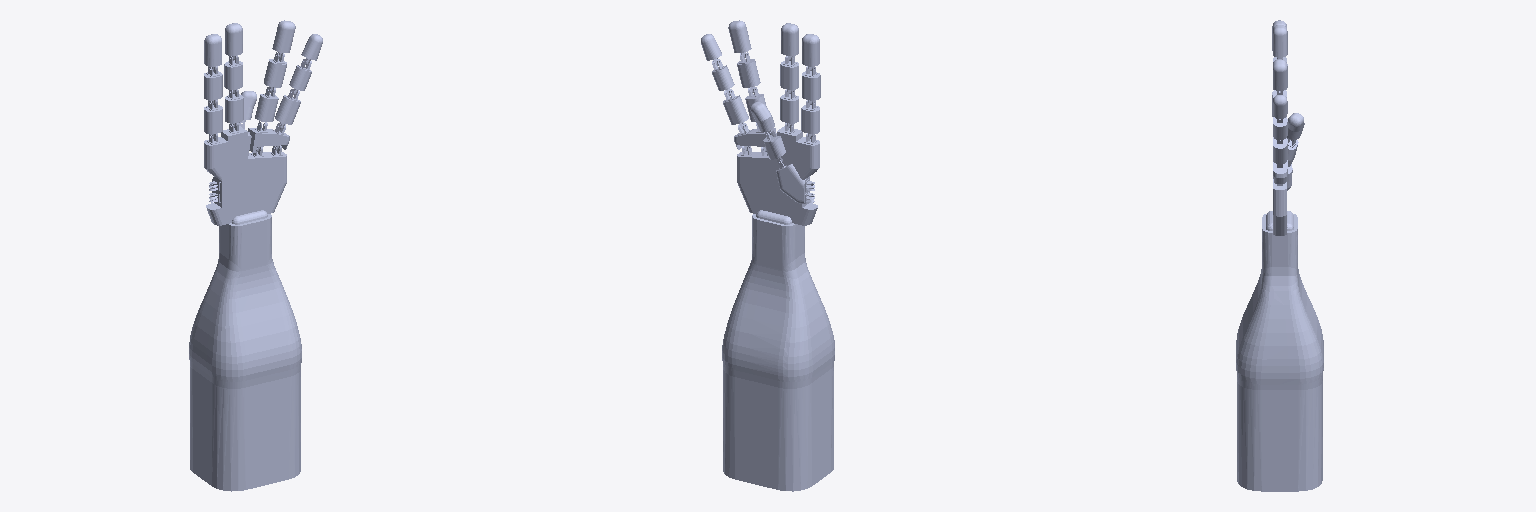
The robot description file, URDF, robot "simple_hand_3":
<?xml version="1.0" encoding="utf-8"?>
<!-- This URDF was automatically created by SolidWorks to URDF Exporter! Originally created by [author] ([email redacted]) 
     Commit Version: 1.6.0-1-g15f4949  Build Version: 1.6.7594.29634
     For more information, please see http://wiki.ros.org/sw_urdf_exporter -->
<robot
  name="simple_hand_3">
  <link
    name="base_link">
    <inertial>
      <origin
        xyz="-0.00188643436581484 7.91792044075349E-07 -0.0101107102609225"
        rpy="0 0 0" />
      <mass
        value="0.0547254839327602" />
      <inertia
        ixx="3.01578866609305E-05"
        ixy="2.75922512250291E-11"
        ixz="5.77313895814659E-06"
        iyy="4.6585768516949E-05"
        iyz="-3.08656421612784E-11"
        izz="1.82716186853849E-05" />
    </inertial>
    <visual>
      <origin
        xyz="0 0 0"
        rpy="0 0 0" />
      <geometry>
        <mesh
          filename="package://simple_hand_3/meshes/base_link.STL" />
      </geometry>
      <material
        name="">
        <color
          rgba="0.792156862745098 0.819607843137255 0.933333333333333 1" />
      </material>
    </visual>
    <collision>
      <origin
        xyz="0 0 0"
        rpy="0 0 0" />
      <geometry>
        <mesh
          filename="package://simple_hand_3/meshes/base_link.STL" />
      </geometry>
    </collision>
  </link>
  <link
    name="thumb_1">
    <inertial>
      <origin
        xyz="0.0048085282615066 0.0155683292090754 -9.38862231650911E-05"
        rpy="0 0 0" />
      <mass
        value="0.00714658380829061" />
      <inertia
        ixx="3.26626039983406E-07"
        ixy="9.21851511766135E-08"
        ixz="7.28401970577256E-11"
        iyy="4.93450737768554E-07"
        iyz="1.16674127798342E-10"
        izz="6.67805464749945E-07" />
    </inertial>
    <visual>
      <origin
        xyz="0 0 0"
        rpy="0 0 0" />
      <geometry>
        <mesh
          filename="package://simple_hand_3/meshes/thumb_1.STL" />
      </geometry>
      <material
        name="">
        <color
          rgba="0.792156862745098 0.819607843137255 0.933333333333333 1" />
      </material>
    </visual>
    <collision>
      <origin
        xyz="0 0 0"
        rpy="0 0 0" />
      <geometry>
        <mesh
          filename="package://simple_hand_3/meshes/thumb_1.STL" />
      </geometry>
    </collision>
  </link>
  <joint
    name="thumb_palm"
    type="continuous">
    <origin
      xyz="-0.031 -0.0001 0"
      rpy="1.3963 1.5708 0" />
    <parent
      link="base_link" />
    <child
      link="thumb_1" />
    <axis
      xyz="1 0 0" />
  </joint>
  <link
    name="thumb_2">
    <inertial>
      <origin
        xyz="-0.0580525842144156 0.0245170365772038 0.00600212157284599"
        rpy="0 0 0" />
      <mass
        value="0.00309410697808253" />
      <inertia
        ixx="9.86716393307872E-08"
        ixy="-6.58381417150372E-09"
        ixz="4.7694185801008E-11"
        iyy="8.17761446626134E-08"
        iyz="1.44734613015873E-11"
        izz="1.17680540570393E-07" />
    </inertial>
    <visual>
      <origin
        xyz="0 0 0"
        rpy="0 0 0" />
      <geometry>
        <mesh
          filename="package://simple_hand_3/meshes/thumb_2.STL" />
      </geometry>
      <material
        name="">
        <color
          rgba="0.792156862745098 0.819607843137255 0.933333333333333 1" />
      </material>
    </visual>
    <collision>
      <origin
        xyz="0 0 0"
        rpy="0 0 0" />
      <geometry>
        <mesh
          filename="package://simple_hand_3/meshes/thumb_2.STL" />
      </geometry>
    </collision>
  </link>
  <joint
    name="thumb_12"
    type="fixed">
    <origin
      xyz="0.00074168 -0.025588 -0.0138"
      rpy="-2.8356 0.43178 -1.5075" />
    <parent
      link="thumb_1" />
    <child
      link="thumb_2" />
    <axis
      xyz="0 0 0" />
  </joint>
  <link
    name="thumb_3">
    <inertial>
      <origin
        xyz="-0.068356987493422 0.0647531465127782 0.0059944001340212"
        rpy="0 0 0" />
      <mass
        value="0.00324861748801509" />
      <inertia
        ixx="1.31829885963988E-07"
        ixy="2.37227938008644E-08"
        ixz="1.16060719329104E-12"
        iyy="8.56030195353304E-08"
        iyz="9.31995554705883E-13"
        izz="1.54481533062547E-07" />
    </inertial>
    <visual>
      <origin
        xyz="0 0 0"
        rpy="0 0 0" />
      <geometry>
        <mesh
          filename="package://simple_hand_3/meshes/thumb_3.STL" />
      </geometry>
      <material
        name="">
        <color
          rgba="0.792156862745098 0.819607843137255 0.933333333333333 1" />
      </material>
    </visual>
    <collision>
      <origin
        xyz="0 0 0"
        rpy="0 0 0" />
      <geometry>
        <mesh
          filename="package://simple_hand_3/meshes/thumb_3.STL" />
      </geometry>
    </collision>
  </link>
  <joint
    name="thumb_23"
    type="continuous">
    <origin
      xyz="0.010488 -0.0027249 0.0098784"
      rpy="0.031976 -0.17161 0.12773" />
    <parent
      link="thumb_2" />
    <child
      link="thumb_3" />
    <axis
      xyz="0 0 0" />
  </joint>
  <link
    name="index_1">
    <inertial>
      <origin
        xyz="0.000100909995287488 0.0101314105773068 -0.00308812397054953"
        rpy="0 0 0" />
      <mass
        value="0.00331457639559618" />
      <inertia
        ixx="1.2323138903352E-07"
        ixy="-6.26012716365044E-22"
        ixz="5.10066028953523E-22"
        iyy="8.32166997991831E-08"
        iyz="-2.40400014712199E-20"
        izz="1.40564829901929E-07" />
    </inertial>
    <visual>
      <origin
        xyz="0 0 0"
        rpy="0 0 0" />
      <geometry>
        <mesh
          filename="package://simple_hand_3/meshes/index_1.STL" />
      </geometry>
      <material
        name="">
        <color
          rgba="0.792156862745098 0.819607843137255 0.933333333333333 1" />
      </material>
    </visual>
    <collision>
      <origin
        xyz="0 0 0"
        rpy="0 0 0" />
      <geometry>
        <mesh
          filename="package://simple_hand_3/meshes/index_1.STL" />
      </geometry>
    </collision>
  </link>
  <joint
    name="index_palm"
    type="continuous">
    <origin
      xyz="-0.0299 0.0029 0.043"
      rpy="1.5708 0 3.1416" />
    <parent
      link="base_link" />
    <child
      link="index_1" />
    <axis
      xyz="0 0 0" />
  </joint>
  <link
    name="index_2">
    <inertial>
      <origin
        xyz="8.81239705526511E-05 0.0101314105773068 -0.00291187602944456"
        rpy="0 0 0" />
      <mass
        value="0.00331457639559618" />
      <inertia
        ixx="1.2323138903352E-07"
        ixy="-6.31511541580998E-22"
        ixz="5.08668394194715E-22"
        iyy="8.32166997991831E-08"
        iyz="-2.39865466102502E-20"
        izz="1.40564829901929E-07" />
    </inertial>
    <visual>
      <origin
        xyz="0 0 0"
        rpy="0 0 0" />
      <geometry>
        <mesh
          filename="package://simple_hand_3/meshes/index_2.STL" />
      </geometry>
      <material
        name="">
        <color
          rgba="0.792156862745098 0.819607843137255 0.933333333333333 1" />
      </material>
    </visual>
    <collision>
      <origin
        xyz="0 0 0"
        rpy="0 0 0" />
      <geometry>
        <mesh
          filename="package://simple_hand_3/meshes/index_2.STL" />
      </geometry>
    </collision>
  </link>
  <joint
    name="index_12"
    type="continuous">
    <origin
      xyz="0.0002 0.03 0"
      rpy="0 0 0" />
    <parent
      link="index_1" />
    <child
      link="index_2" />
    <axis
      xyz="0 0 0" />
  </joint>
  <link
    name="index_3">
    <inertial>
      <origin
        xyz="-9.48443246826212E-05 0.0116226051015443 -0.00309484432468262"
        rpy="0 0 0" />
      <mass
        value="0.00352502395351663" />
      <inertia
        ixx="1.85717997302154E-07"
        ixy="-2.15781770705621E-23"
        ixz="-3.31417911790443E-24"
        iyy="8.01006878176001E-08"
        iyz="-4.08880248846548E-23"
        izz="1.97300854531169E-07" />
    </inertial>
    <visual>
      <origin
        xyz="0 0 0"
        rpy="0 0 0" />
      <geometry>
        <mesh
          filename="package://simple_hand_3/meshes/index_3.STL" />
      </geometry>
      <material
        name="">
        <color
          rgba="0.792156862745098 0.819607843137255 0.933333333333333 1" />
      </material>
    </visual>
    <collision>
      <origin
        xyz="0 0 0"
        rpy="0 0 0" />
      <geometry>
        <mesh
          filename="package://simple_hand_3/meshes/index_3.STL" />
      </geometry>
    </collision>
  </link>
  <joint
    name="index_23"
    type="fixed">
    <origin
      xyz="0 0.03 0"
      rpy="0 0 0" />
    <parent
      link="index_2" />
    <child
      link="index_3" />
    <axis
      xyz="0 0 0" />
  </joint>
  <link
    name="middle_1">
    <inertial>
      <origin
        xyz="-0.0075009099952875 0.0146314105773068 8.81239705497929E-05"
        rpy="0 0 0" />
      <mass
        value="0.00331457639559618" />
      <inertia
        ixx="1.2323138903352E-07"
        ixy="6.33478104037402E-22"
        ixz="5.09155288370479E-22"
        iyy="8.32166997991831E-08"
        iyz="2.39759641967047E-20"
        izz="1.40564829901929E-07" />
    </inertial>
    <visual>
      <origin
        xyz="0 0 0"
        rpy="0 0 0" />
      <geometry>
        <mesh
          filename="package://simple_hand_3/meshes/middle_1.STL" />
      </geometry>
      <material
        name="">
        <color
          rgba="0.792156862745098 0.819607843137255 0.933333333333333 1" />
      </material>
    </visual>
    <collision>
      <origin
        xyz="0 0 0"
        rpy="0 0 0" />
      <geometry>
        <mesh
          filename="package://simple_hand_3/meshes/middle_1.STL" />
      </geometry>
    </collision>
  </link>
  <joint
    name="middle_palm"
    type="continuous">
    <origin
      xyz="-0.003 0.0001 0.0435"
      rpy="1.5708 0 0" />
    <parent
      link="base_link" />
    <child
      link="middle_1" />
    <axis
      xyz="1 0 0" />
  </joint>
  <link
    name="middle_2">
    <inertial>
      <origin
        xyz="0.000100909995287481 0.0101314105773068 -0.00291187602944456"
        rpy="0 0 0" />
      <mass
        value="0.00331457639559618" />
      <inertia
        ixx="1.2323138903352E-07"
        ixy="-6.09886440477558E-22"
        ixz="5.09253540118803E-22"
        iyy="8.32166997991831E-08"
        iyz="-2.40189294374678E-20"
        izz="1.40564829901928E-07" />
    </inertial>
    <visual>
      <origin
        xyz="0 0 0"
        rpy="0 0 0" />
      <geometry>
        <mesh
          filename="package://simple_hand_3/meshes/middle_2.STL" />
      </geometry>
      <material
        name="">
        <color
          rgba="0.792156862745098 0.819607843137255 0.933333333333333 1" />
      </material>
    </visual>
    <collision>
      <origin
        xyz="0 0 0"
        rpy="0 0 0" />
      <geometry>
        <mesh
          filename="package://simple_hand_3/meshes/middle_2.STL" />
      </geometry>
    </collision>
  </link>
  <joint
    name="middle_12"
    type="continuous">
    <origin
      xyz="-0.0076 0.0345 -0.003"
      rpy="3.1416 0 -3.1416" />
    <parent
      link="middle_1" />
    <child
      link="middle_2" />
    <axis
      xyz="0 0 0" />
  </joint>
  <link
    name="middle_3">
    <inertial>
      <origin
        xyz="-9.48443246825952E-05 0.0116226051015443 -0.00290515567531735"
        rpy="0 0 0" />
      <mass
        value="0.00352502395351662" />
      <inertia
        ixx="1.85717997302153E-07"
        ixy="-5.23422890572457E-23"
        ixz="-1.76233170731714E-23"
        iyy="8.01006878176E-08"
        iyz="3.22424816276047E-23"
        izz="1.97300854531168E-07" />
    </inertial>
    <visual>
      <origin
        xyz="0 0 0"
        rpy="0 0 0" />
      <geometry>
        <mesh
          filename="package://simple_hand_3/meshes/middle_3.STL" />
      </geometry>
      <material
        name="">
        <color
          rgba="0.792156862745098 0.819607843137255 0.933333333333333 1" />
      </material>
    </visual>
    <collision>
      <origin
        xyz="0 0 0"
        rpy="0 0 0" />
      <geometry>
        <mesh
          filename="package://simple_hand_3/meshes/middle_3.STL" />
      </geometry>
    </collision>
  </link>
  <joint
    name="middle_23"
    type="fixed">
    <origin
      xyz="0.0002 0.03 0"
      rpy="0 0 0" />
    <parent
      link="middle_2" />
    <child
      link="middle_3" />
    <axis
      xyz="0 0 0" />
  </joint>
  <link
    name="ring_pink_palm">
    <inertial>
      <origin
        xyz="0.0170207672540466 0.00634175647982031 -8.33728651589396E-05"
        rpy="0 0 0" />
      <mass
        value="0.00474638182867952" />
      <inertia
        ixx="1.24617700851684E-07"
        ixy="8.08014945109771E-08"
        ixz="-3.25122701369903E-12"
        iyy="4.61877650491778E-07"
        iyz="1.81183357330574E-12"
        izz="4.81107731413793E-07" />
    </inertial>
    <visual>
      <origin
        xyz="0 0 0"
        rpy="0 0 0" />
      <geometry>
        <mesh
          filename="package://simple_hand_3/meshes/ring_pink_palm.STL" />
      </geometry>
      <material
        name="">
        <color
          rgba="0.792156862745098 0.819607843137255 0.933333333333333 1" />
      </material>
    </visual>
    <collision>
      <origin
        xyz="0 0 0"
        rpy="0 0 0" />
      <geometry>
        <mesh
          filename="package://simple_hand_3/meshes/ring_pink_palm.STL" />
      </geometry>
    </collision>
  </link>
  <joint
    name="rp_palm"
    type="continuous">
    <origin
      xyz="0.00325121332595538 0.000100000000000003 0.0184385470271891"
      rpy="1.5707963267949 0 0" />
    <parent
      link="base_link" />
    <child
      link="ring_pink_palm" />
    <axis
      xyz="0.984807753012207 -0.173648177666934 0" />
  </joint>
  <link
    name="ring_1">
    <inertial>
      <origin
        xyz="8.73292782340735E-05 -0.020931154599294 0.00308732927822939"
        rpy="0 0 0" />
      <mass
        value="0.00334473888459068" />
      <inertia
        ixx="1.23940526073648E-07"
        ixy="1.15639849634913E-21"
        ixz="-1.05381739622197E-21"
        iyy="8.36234289464328E-08"
        iyz="-4.9186521128773E-20"
        izz="1.41586346370184E-07" />
    </inertial>
    <visual>
      <origin
        xyz="0 0 0"
        rpy="0 0 0" />
      <geometry>
        <mesh
          filename="package://simple_hand_3/meshes/ring_1.STL" />
      </geometry>
      <material
        name="">
        <color
          rgba="0.792156862745098 0.819607843137255 0.933333333333333 1" />
      </material>
    </visual>
    <collision>
      <origin
        xyz="0 0 0"
        rpy="0 0 0" />
      <geometry>
        <mesh
          filename="package://simple_hand_3/meshes/ring_1.STL" />
      </geometry>
    </collision>
  </link>
  <joint
    name="ring1_rp_palm"
    type="continuous">
    <origin
      xyz="0.011215 0.012454 -0.003"
      rpy="0 0 2.8798" />
    <parent
      link="ring_pink_palm" />
    <child
      link="ring_1" />
    <axis
      xyz="0 0 0" />
  </joint>
  <link
    name="ring_2">
    <inertial>
      <origin
        xyz="0.000100909995289843 0.0146314105773065 0.000100909995283516"
        rpy="0 0 0" />
      <mass
        value="0.00331457639559613" />
      <inertia
        ixx="1.2323138903352E-07"
        ixy="5.92261318587968E-22"
        ixz="5.38310949868961E-22"
        iyy="8.3216699799183E-08"
        iyz="2.5017073346742E-20"
        izz="1.40564829901928E-07" />
    </inertial>
    <visual>
      <origin
        xyz="0 0 0"
        rpy="0 0 0" />
      <geometry>
        <mesh
          filename="package://simple_hand_3/meshes/ring_2.STL" />
      </geometry>
      <material
        name="">
        <color
          rgba="0.792156862745098 0.819607843137255 0.933333333333333 1" />
      </material>
    </visual>
    <collision>
      <origin
        xyz="0 0 0"
        rpy="0 0 0" />
      <geometry>
        <mesh
          filename="package://simple_hand_3/meshes/ring_2.STL" />
      </geometry>
    </collision>
  </link>
  <joint
    name="ring_12"
    type="continuous">
    <origin
      xyz="0 -0.037 0.003"
      rpy="0 0 -3.1416" />
    <parent
      link="ring_1" />
    <child
      link="ring_2" />
    <axis
      xyz="1 0 0" />
  </joint>
  <link
    name="ring_3">
    <inertial>
      <origin
        xyz="0.000294844324685468 0.0161226051015444 -9.48443246834679E-05"
        rpy="0 0 0" />
      <mass
        value="0.00352502395351663" />
      <inertia
        ixx="1.85717997302149E-07"
        ixy="-5.21123785908407E-22"
        ixz="1.56916810121405E-23"
        iyy="8.01006878176001E-08"
        iyz="1.72122206206811E-21"
        izz="1.97300854531164E-07" />
    </inertial>
    <visual>
      <origin
        xyz="0 0 0"
        rpy="0 0 0" />
      <geometry>
        <mesh
          filename="package://simple_hand_3/meshes/ring_3.STL" />
      </geometry>
      <material
        name="">
        <color
          rgba="0.792156862745098 0.819607843137255 0.933333333333333 1" />
      </material>
    </visual>
    <collision>
      <origin
        xyz="0 0 0"
        rpy="0 0 0" />
      <geometry>
        <mesh
          filename="package://simple_hand_3/meshes/ring_3.STL" />
      </geometry>
    </collision>
  </link>
  <joint
    name="ring_23"
    type="fixed">
    <origin
      xyz="0 0.03 0.0002"
      rpy="0 0 0" />
    <parent
      link="ring_2" />
    <child
      link="ring_3" />
    <axis
      xyz="1 0 0" />
    <limit
      lower="-1.5708"
      upper="0"
      effort="0"
      velocity="0" />
  </joint>
  <link
    name="pinky_1">
    <inertial>
      <origin
        xyz="0.000100909995287526 0.0101314105773068 -0.00289909000471042"
        rpy="0 0 0" />
      <mass
        value="0.00331457639559618" />
      <inertia
        ixx="1.2323138903352E-07"
        ixy="-6.81596824743695E-22"
        ixz="5.08323986907053E-22"
        iyy="8.32166997991832E-08"
        iyz="-2.40527689720418E-20"
        izz="1.40564829901929E-07" />
    </inertial>
    <visual>
      <origin
        xyz="0 0 0"
        rpy="0 0 0" />
      <geometry>
        <mesh
          filename="package://simple_hand_3/meshes/pinky_1.STL" />
      </geometry>
      <material
        name="">
        <color
          rgba="0.792156862745098 0.819607843137255 0.933333333333333 1" />
      </material>
    </visual>
    <collision>
      <origin
        xyz="0 0 0"
        rpy="0 0 0" />
      <geometry>
        <mesh
          filename="package://simple_hand_3/meshes/pinky_1.STL" />
      </geometry>
    </collision>
  </link>
  <joint
    name="pinky1_rp_palm"
    type="continuous">
    <origin
      xyz="0.032286 0.01746 -0.003"
      rpy="-3.1416 0 2.7053" />
    <parent
      link="ring_pink_palm" />
    <child
      link="pinky_1" />
    <axis
      xyz="0 0 0" />
  </joint>
  <link
    name="pinky_2">
    <inertial>
      <origin
        xyz="-0.000116192802976596 0.0129292550716582 8.38071970202348E-05"
        rpy="0 0 0" />
      <mass
        value="0.00243095694657694" />
      <inertia
        ixx="6.85523277747308E-08"
        ixy="6.56781406367104E-22"
        ixz="5.19162773411266E-22"
        iyy="5.02538415032837E-08"
        iyz="2.39796953289761E-20"
        izz="7.2491392358019E-08" />
    </inertial>
    <visual>
      <origin
        xyz="0 0 0"
        rpy="0 0 0" />
      <geometry>
        <mesh
          filename="package://simple_hand_3/meshes/pinky_2.STL" />
      </geometry>
      <material
        name="">
        <color
          rgba="0.792156862745098 0.819607843137255 0.933333333333333 1" />
      </material>
    </visual>
    <collision>
      <origin
        xyz="0 0 0"
        rpy="0 0 0" />
      <geometry>
        <mesh
          filename="package://simple_hand_3/meshes/pinky_2.STL" />
      </geometry>
    </collision>
  </link>
  <joint
    name="pinky_12"
    type="continuous">
    <origin
      xyz="0 0.0255 -0.0028"
      rpy="-3.1416 0 3.1416" />
    <parent
      link="pinky_1" />
    <child
      link="pinky_2" />
    <axis
      xyz="1 0 0" />
  </joint>
  <link
    name="pinky_3">
    <inertial>
      <origin
        xyz="-0.000108084267456413 0.0130882404924852 9.19326081209215E-05"
        rpy="0 0 0" />
      <mass
        value="0.00224742035804122" />
      <inertia
        ixx="7.84638438602706E-08"
        ixy="7.56151792085472E-15"
        ixz="-1.75519852389866E-12"
        iyy="4.07217895790235E-08"
        iyz="6.27007155929564E-14"
        izz="7.77279503022203E-08" />
    </inertial>
    <visual>
      <origin
        xyz="0 0 0"
        rpy="0 0 0" />
      <geometry>
        <mesh
          filename="package://simple_hand_3/meshes/pinky_3.STL" />
      </geometry>
      <material
        name="">
        <color
          rgba="0.792156862745098 0.819607843137255 0.933333333333333 1" />
      </material>
    </visual>
    <collision>
      <origin
        xyz="0 0 0"
        rpy="0 0 0" />
      <geometry>
        <mesh
          filename="package://simple_hand_3/meshes/pinky_3.STL" />
      </geometry>
    </collision>
  </link>
  <joint
    name="pinky_23"
    type="revolute">
    <origin
      xyz="0 0.02675 0"
      rpy="0 0 0" />
    <parent
      link="pinky_2" />
    <child
      link="pinky_3" />
    <axis
      xyz="1 0 0" />
    <limit
      lower="-1.57079632679491"
      upper="0"
      effort="0"
      velocity="0" />
  </joint>
</robot>

--- Facts derived from the render (not from the file) ---
Views: 3 orthographic renders of the robot side by side, from view 1: azimuth 30°, elevation 25°; view 2: azimuth 150°, elevation 25°; view 3: azimuth 270°, elevation 25°.
Model simple_hand_3 with 17 links and 16 joints (1 revolute, 11 continuous, 4 fixed), rooted at base_link, posed every joint at zero.
Visible links, largest first — view 1: base_link, ring_pink_palm, pinky_1, ring_2, index_1, index_2, middle_2, ring_3, middle_1, ring_1, middle_3, index_3; view 2: base_link, thumb_1, pinky_1, ring_2, index_2, middle_1, middle_2, ring_pink_palm, ring_3, middle_3, index_1, index_3; view 3: base_link.
Boxes of the visible links, x1,y1,x2,y2 form: base_link: (189,123,301,491); ring_pink_palm: (248,121,289,152); pinky_1: (275,89,300,129); ring_2: (264,52,286,92); index_1: (204,100,222,138); index_2: (204,66,222,104); middle_2: (224,55,242,93); ring_3: (272,20,295,58); middle_1: (225,89,243,127); ring_1: (255,87,278,132); middle_3: (225,23,242,60); index_3: (204,34,221,71); base_link: (722,123,834,491); thumb_1: (776,160,814,203); pinky_1: (723,89,748,129); ring_2: (737,52,760,92); index_2: (802,66,820,104); middle_1: (780,89,798,127); middle_2: (780,56,798,93); ring_pink_palm: (734,123,775,151); ring_3: (728,20,751,57); middle_3: (781,23,798,60); index_1: (801,100,819,138); index_3: (802,34,819,70); base_link: (1236,179,1323,491).
Bounding box of the posed robot: 0.1118 × 0.0721 × 0.398 m (x, y, z).
Meshes: 17 distinct files referenced, 17 mesh visuals loaded (17 binary STL).